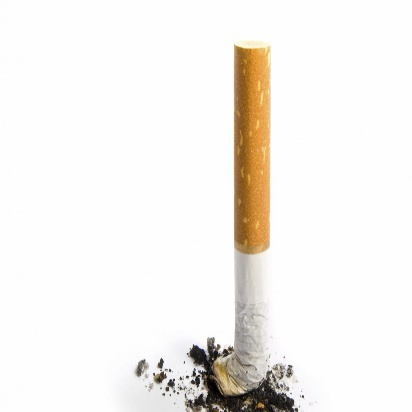cigarette: (202, 35, 295, 401)
